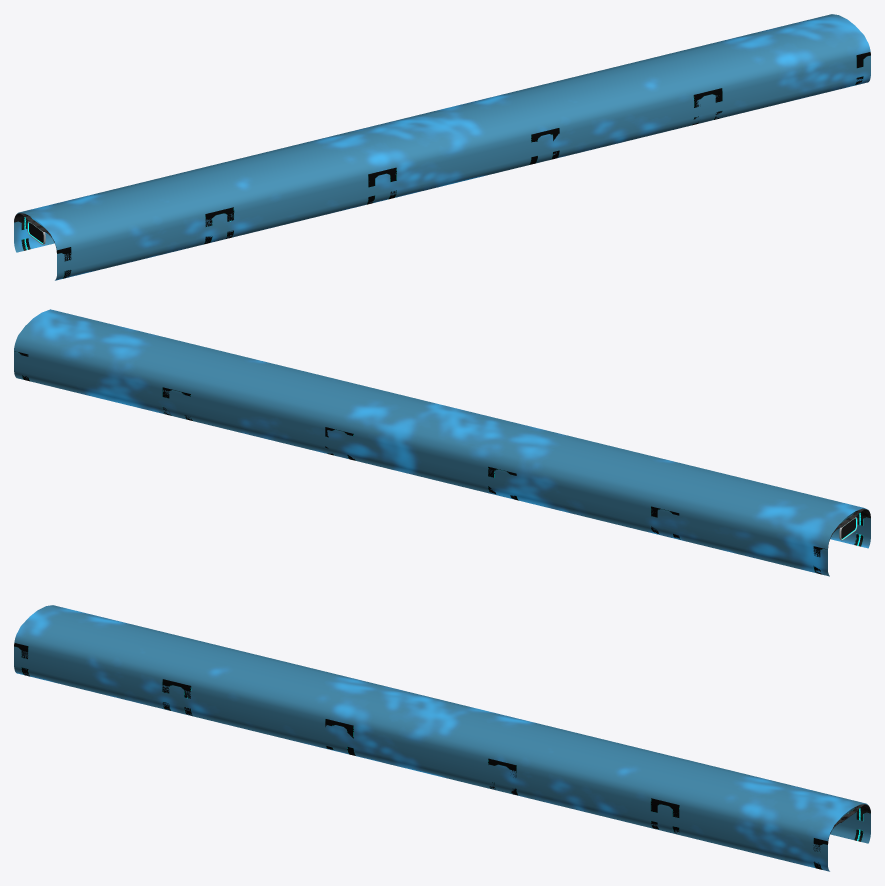
The model's file is RoadDome3.fbx.
3 views of the same model, one above another, from view 1: azimuth 30°, elevation 25°; view 2: azimuth 150°, elevation 25°; view 3: azimuth 330°, elevation 25° (orthographic).
Visible parts, largest first — view 1: model_129.001, model_129.002; view 2: model_129.001, model_129.002; view 3: model_129.001, model_129.002.
Boxes of the visible parts, x1=… form: model_129.001: x1=14, y1=14, x2=870, y2=280; model_129.002: x1=14, y1=52, x2=870, y2=278; model_129.001: x1=14, y1=309, x2=870, y2=576; model_129.002: x1=14, y1=351, x2=870, y2=574; model_129.001: x1=14, y1=605, x2=870, y2=871; model_129.002: x1=14, y1=643, x2=870, y2=869.
Bounding box in the file's own units: 67709 × 3771 × 6217.
2 materials, 2 textured.
